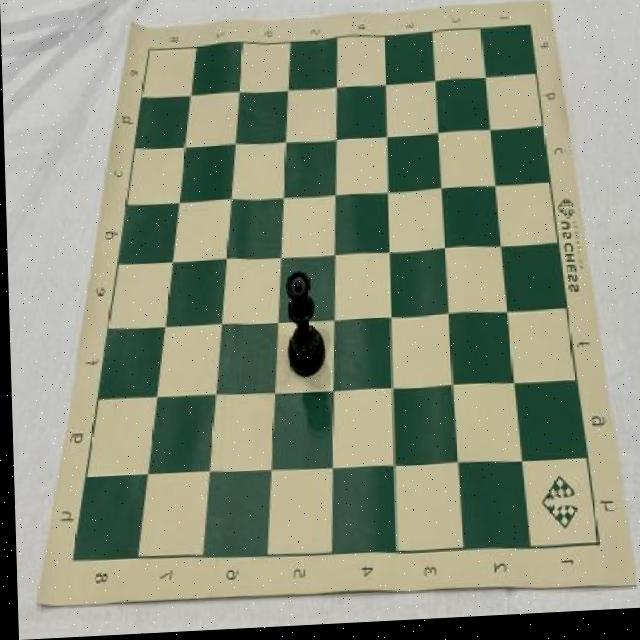black-pawn: (282, 273, 323, 383)
